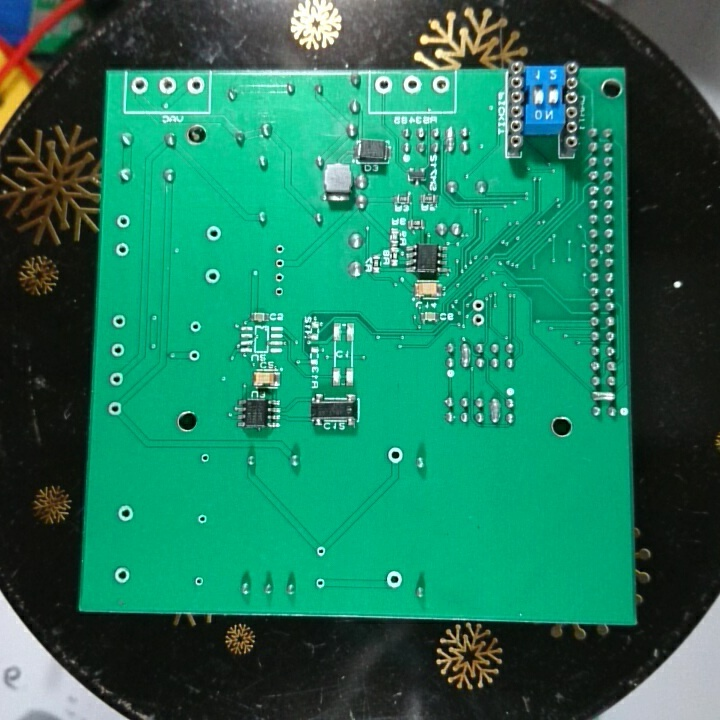F: (184, 73, 208, 98), (430, 72, 453, 98), (128, 75, 152, 97), (372, 75, 395, 97), (401, 74, 423, 97), (156, 74, 179, 95), (384, 568, 404, 592), (115, 503, 136, 525), (113, 564, 133, 587), (105, 399, 125, 420), (385, 445, 404, 465), (108, 340, 127, 360), (204, 224, 224, 243), (203, 265, 224, 283), (110, 312, 129, 331), (113, 240, 133, 258), (113, 213, 134, 230), (107, 370, 125, 389), (470, 312, 489, 329), (187, 318, 203, 335), (186, 347, 202, 363), (313, 542, 327, 560), (471, 298, 487, 312), (196, 511, 210, 526), (273, 284, 287, 299), (273, 242, 288, 256), (313, 575, 324, 594), (199, 449, 210, 467), (193, 574, 206, 589), (272, 271, 287, 283), (273, 257, 287, 269)
P: (487, 394, 503, 428), (589, 387, 621, 403), (443, 122, 458, 156), (458, 338, 472, 372)
